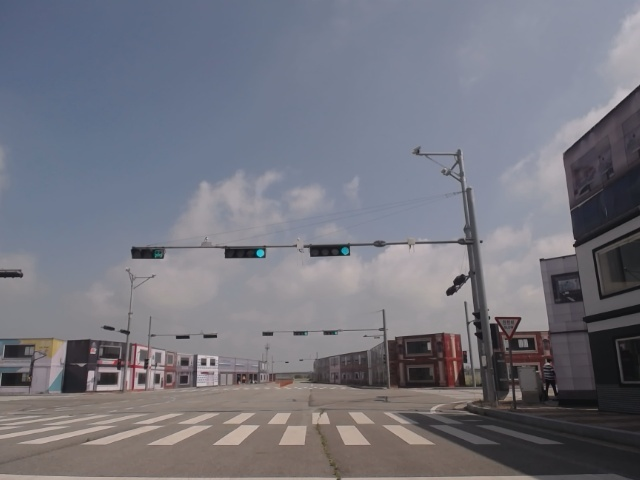straight_green_4: (311, 244, 350, 256), (225, 248, 266, 257)
